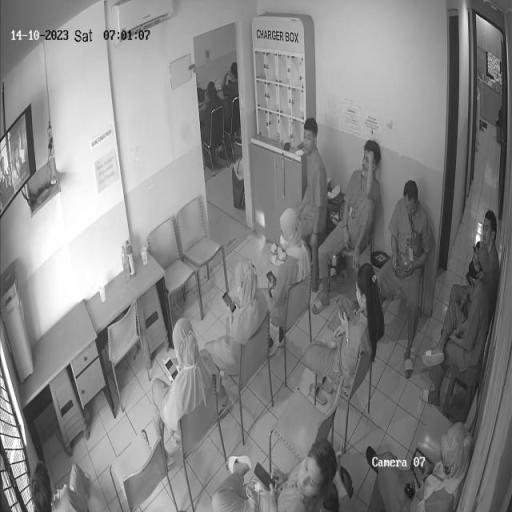person: (313, 141, 383, 315), (425, 243, 492, 409), (153, 318, 227, 467), (380, 181, 434, 380), (307, 265, 384, 400), (205, 261, 269, 412), (367, 423, 473, 512), (214, 441, 337, 512), (261, 209, 312, 358), (451, 209, 503, 322), (293, 120, 328, 243), (29, 462, 91, 512), (223, 62, 242, 156), (202, 82, 223, 164)
